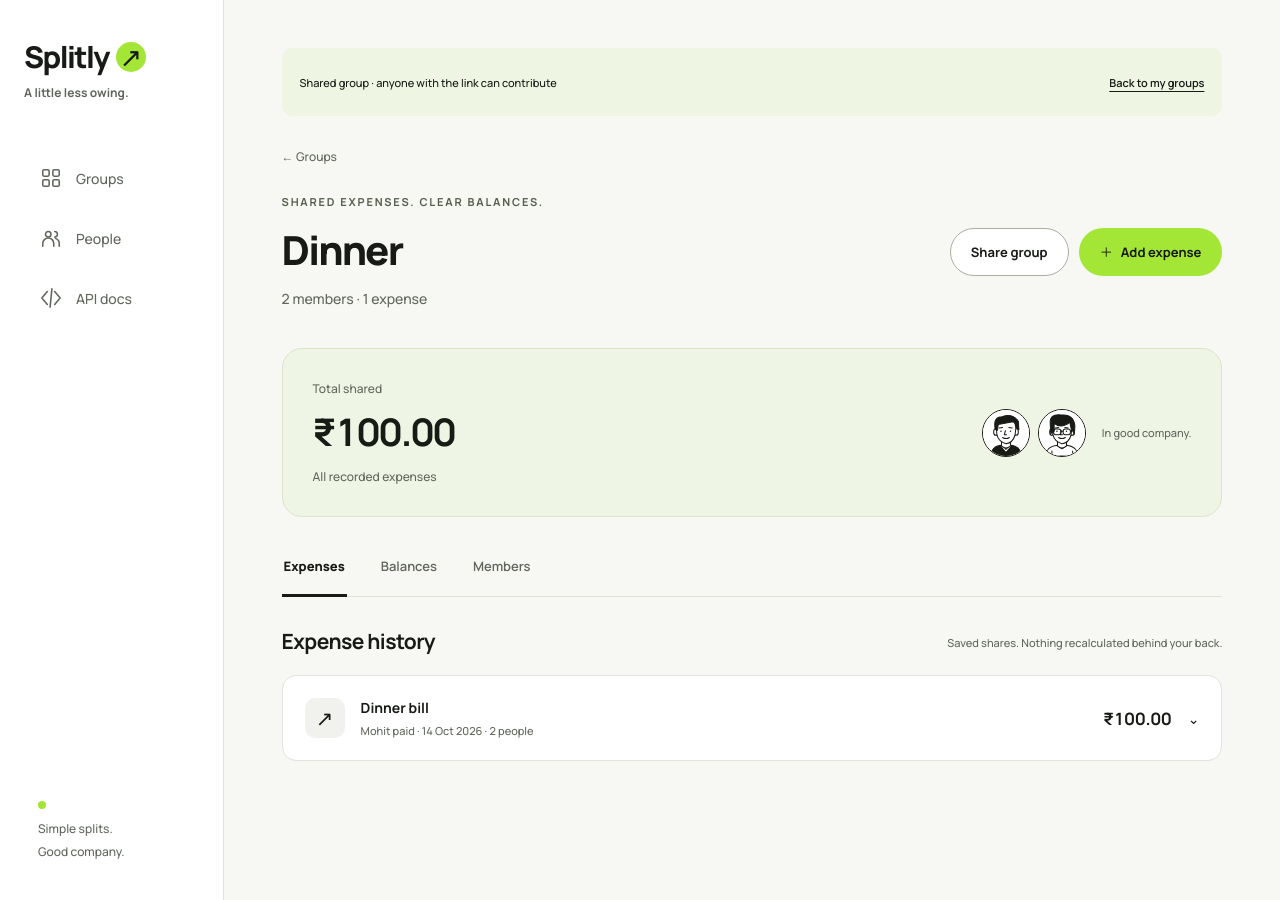
shows a failed owner-scope switch while retaining the shared group
Step 1. Click the button "Back to my groups" → [1157, 82], box x1=1109 y1=60 x2=1204 y2=104
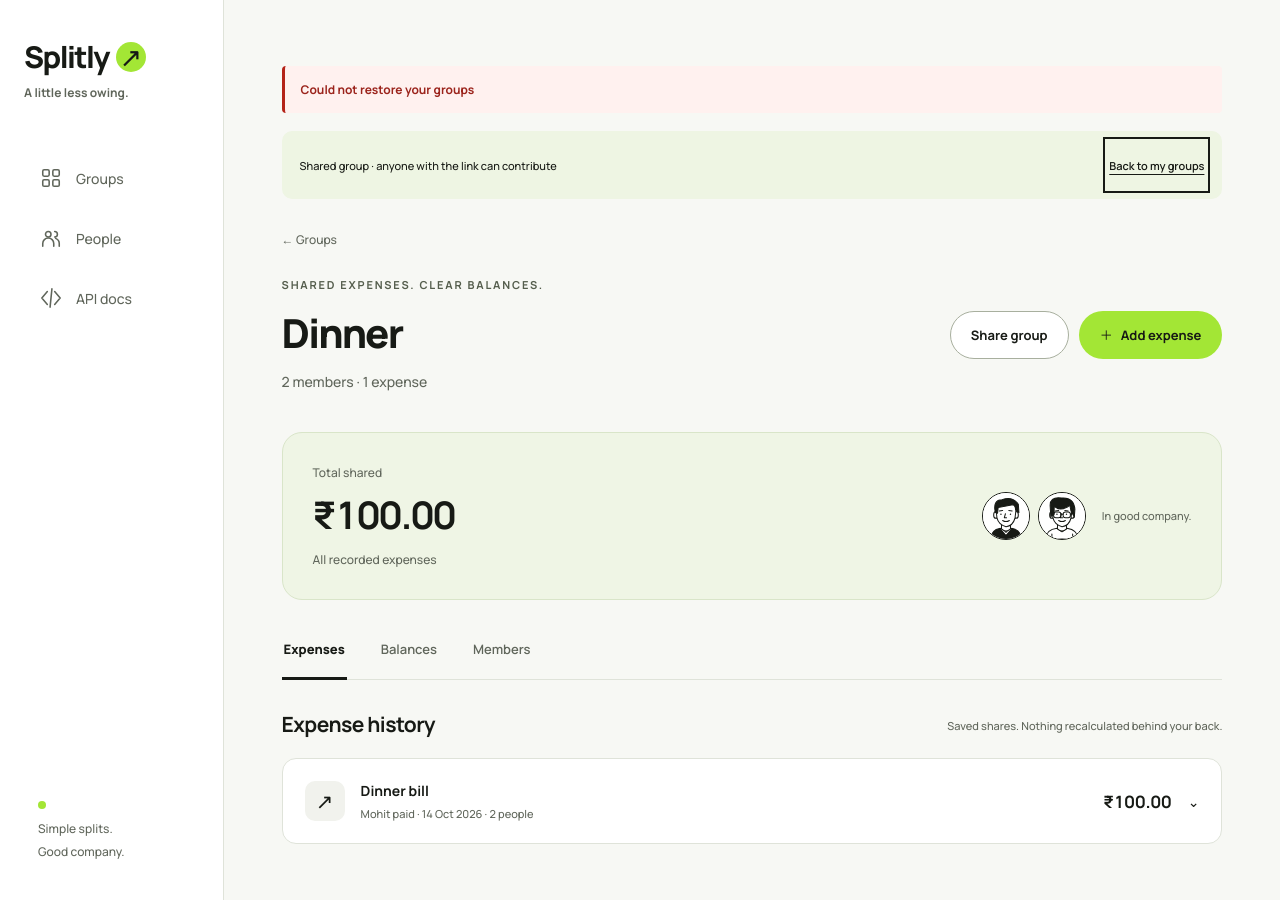
Check: the heading "Dinner" is shown, box x1=282 y1=305 x2=402 y2=360
Check: the message shows "Could not restore", box x1=301 y1=81 x2=474 y2=98
